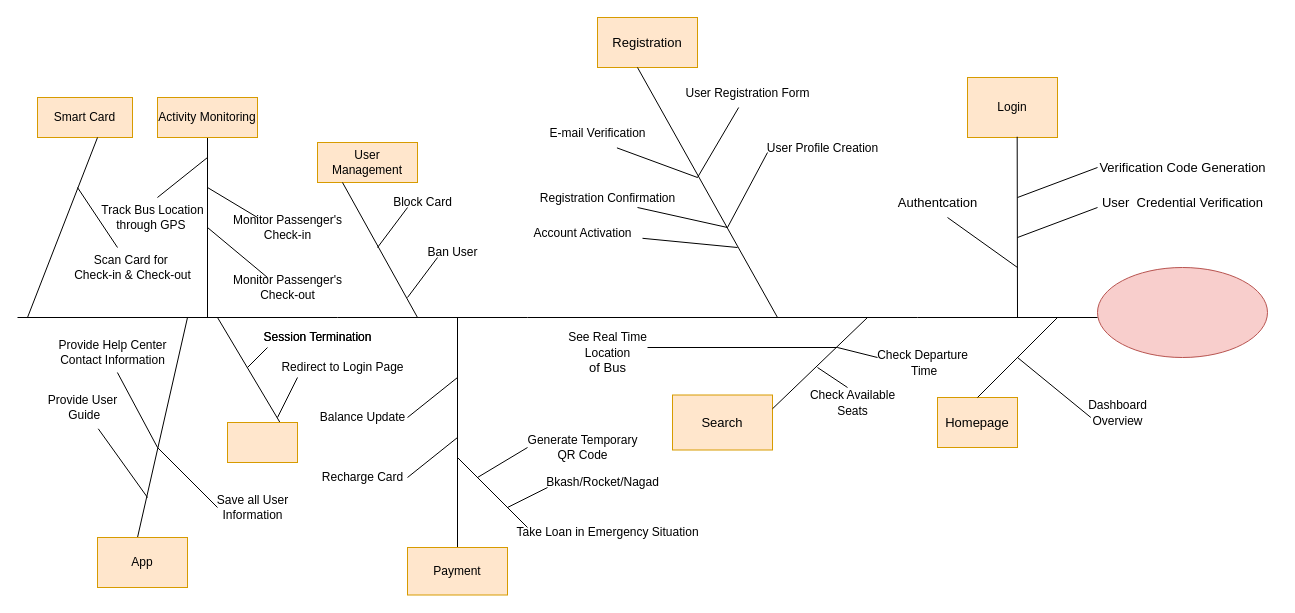
Some shapes in this 1295 by 613 pixel diagram are drawn without their labels. The shapes that lost their labels are listed below. From the top down, each one's centre as x and y in pixels, then its label:
At point (1182, 312): "Digital Bus Service System".
At point (262, 442): "Logout".
